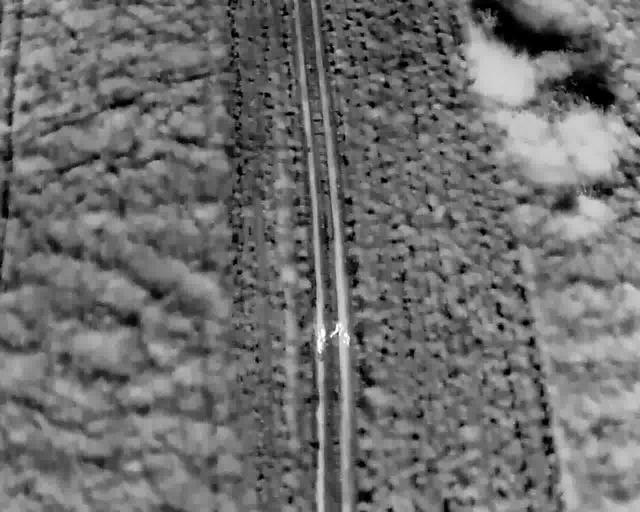person: (328, 320, 344, 338), (314, 332, 324, 355), (315, 323, 325, 343), (341, 330, 351, 349)
